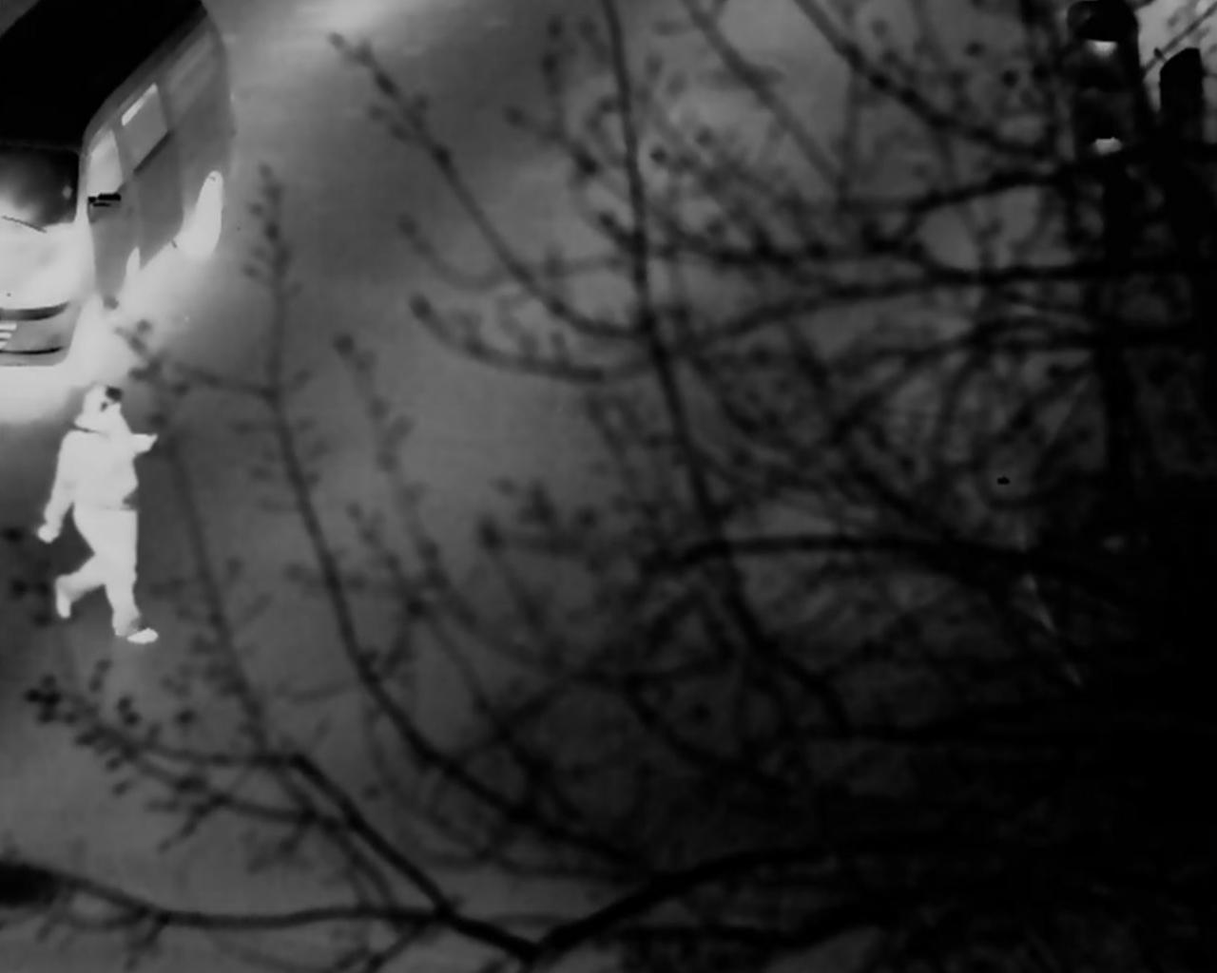person: (33, 377, 165, 654)
